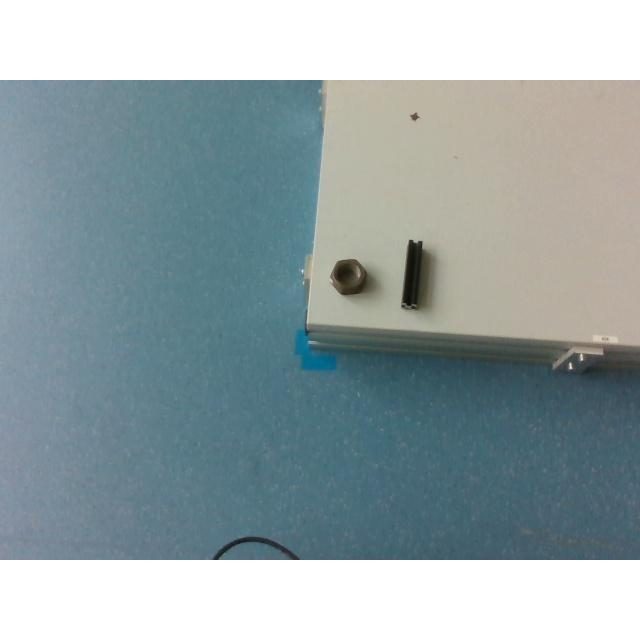F20_20_B: (401, 242, 421, 306)
M30: (329, 258, 367, 294)
